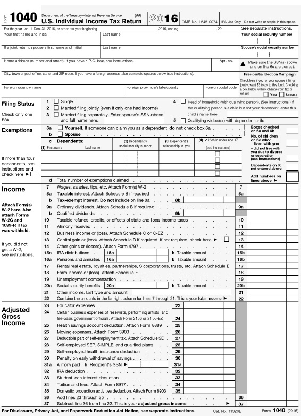checkbox: (222, 236, 231, 243), (55, 130, 64, 137), (52, 98, 61, 105), (51, 111, 60, 118), (277, 91, 285, 98), (261, 91, 269, 98), (179, 97, 187, 104), (178, 117, 186, 124), (56, 124, 64, 131), (52, 104, 60, 111), (213, 150, 221, 157), (213, 156, 221, 163), (213, 169, 221, 176), (212, 163, 220, 169)
textbox: (245, 300, 287, 402), (1, 71, 241, 87), (1, 57, 212, 73), (98, 31, 240, 46), (99, 45, 240, 60), (1, 83, 125, 99), (284, 299, 301, 402), (1, 44, 103, 59), (1, 31, 101, 46), (122, 83, 205, 99), (237, 31, 301, 47), (237, 44, 301, 60), (245, 194, 287, 211), (39, 149, 114, 158), (39, 162, 114, 171), (245, 208, 287, 224), (182, 307, 224, 323), (39, 156, 113, 165), (38, 167, 112, 176), (202, 83, 240, 99), (209, 57, 241, 73), (244, 253, 287, 264), (244, 398, 287, 409), (182, 339, 224, 350), (110, 149, 161, 158), (109, 156, 160, 165), (111, 162, 162, 171), (110, 168, 160, 177), (114, 254, 158, 264), (114, 280, 158, 290), (245, 188, 288, 198), (244, 221, 287, 231), (244, 228, 287, 238), (244, 234, 287, 244), (245, 241, 288, 251), (245, 248, 288, 258), (245, 260, 288, 270), (245, 268, 288, 278), (245, 274, 288, 284), (245, 281, 288, 291), (245, 286, 288, 296), (245, 294, 288, 304), (182, 195, 225, 205), (182, 319, 224, 329), (182, 326, 224, 336), (182, 333, 224, 343), (182, 346, 224, 356), (182, 353, 224, 363), (182, 359, 224, 369), (183, 366, 225, 376), (182, 372, 224, 382), (182, 379, 224, 389), (182, 385, 224, 395), (114, 248, 158, 257), (182, 208, 225, 217), (245, 182, 287, 191), (182, 301, 224, 310), (157, 149, 196, 158), (156, 155, 195, 164), (157, 162, 196, 171), (157, 168, 196, 177), (221, 307, 236, 324), (285, 171, 300, 183), (154, 247, 171, 257), (283, 125, 299, 135), (283, 138, 299, 148), (284, 153, 300, 163), (284, 162, 300, 172), (284, 221, 300, 231), (284, 228, 300, 238), (220, 195, 236, 205), (154, 254, 170, 264), (154, 280, 170, 290), (285, 241, 300, 251), (285, 254, 300, 264), (285, 260, 300, 270), (285, 267, 300, 277), (285, 274, 300, 284), (285, 293, 300, 303), (221, 326, 236, 336), (221, 340, 236, 350), (221, 346, 236, 356), (221, 366, 236, 376), (221, 372, 236, 382), (285, 398, 300, 408), (285, 182, 301, 191), (284, 189, 300, 198), (284, 248, 300, 257), (284, 281, 300, 290), (221, 208, 237, 217), (285, 235, 300, 244), (285, 287, 300, 296), (221, 300, 236, 309), (222, 320, 237, 329), (221, 333, 236, 342), (221, 353, 236, 362), (221, 360, 236, 369), (221, 379, 236, 388), (221, 386, 236, 395)
textline: (129, 290, 232, 296), (226, 110, 299, 118), (128, 361, 169, 369)
